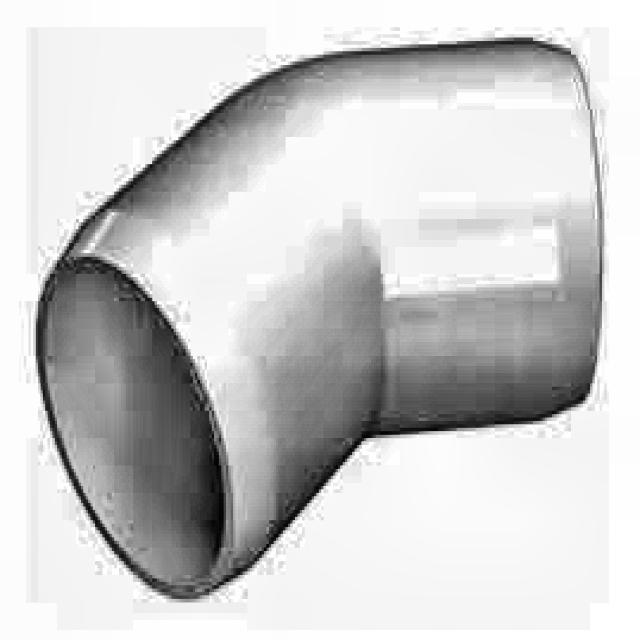ELBOW45: (33, 34, 614, 606)
